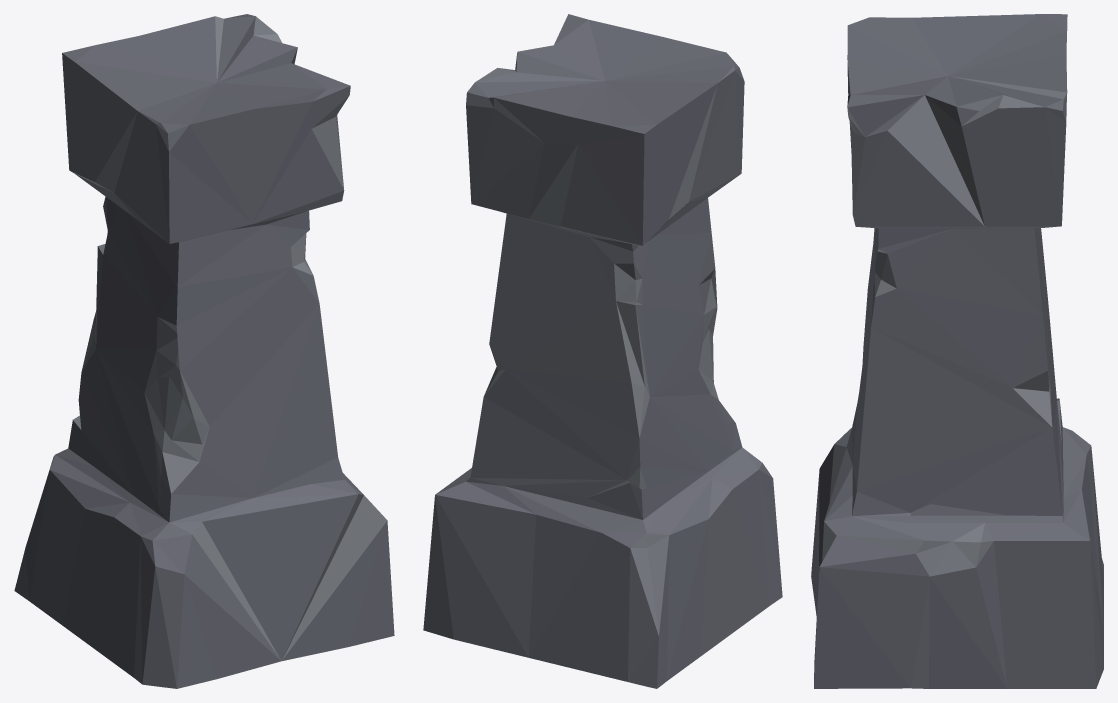
Rendered from Altar_05.FBX.
3 renders of one model, left to right at view 1: azimuth 30°, elevation 25°; view 2: azimuth 150°, elevation 25°; view 3: azimuth 270°, elevation 25°, orthographic. The views are drawn at different scales.
Parts seen in each view (by area): view 1: Altar_05; view 2: Altar_05; view 3: Altar_05.
Boxes of the visible parts, box(x1,y1,x2,y2) form: Altar_05: box(14, 14, 394, 688); Altar_05: box(423, 14, 782, 688); Altar_05: box(811, 14, 1103, 688).
Bounding box in the file's own units: 0.893 × 1.92 × 0.8939.
